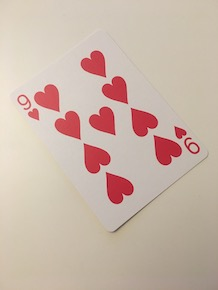NineOfHearts: (8, 27, 211, 233)
